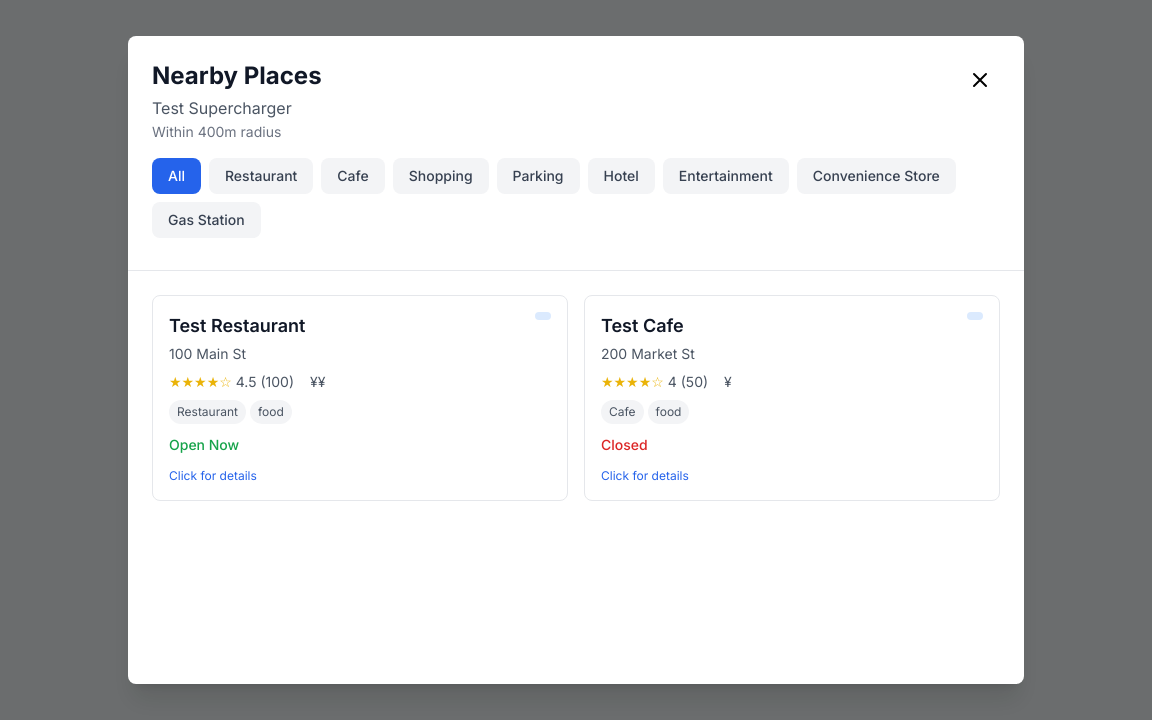
NearbyPlaces Component › should close place details modal
The width and height of the screenshot is (1152, 720).
Expected: the heading "Test Restaurant" is shown, [169,312,305,340]
// Click on a place
Click the text "Test Restaurant": (237, 326) [169,312,551,340]
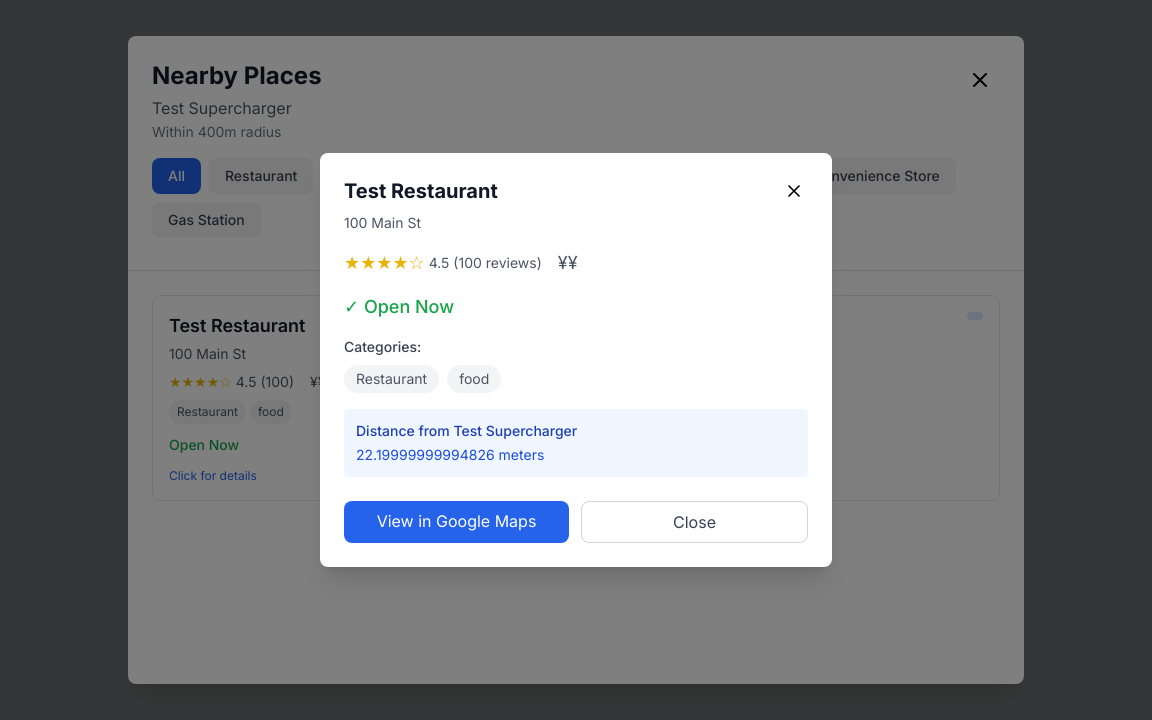
Now the text "4.5 (100 reviews)" is shown, box [429,253,542,273]
// Close details modal
Click the button "Close": (694, 522) [581,501,808,543]
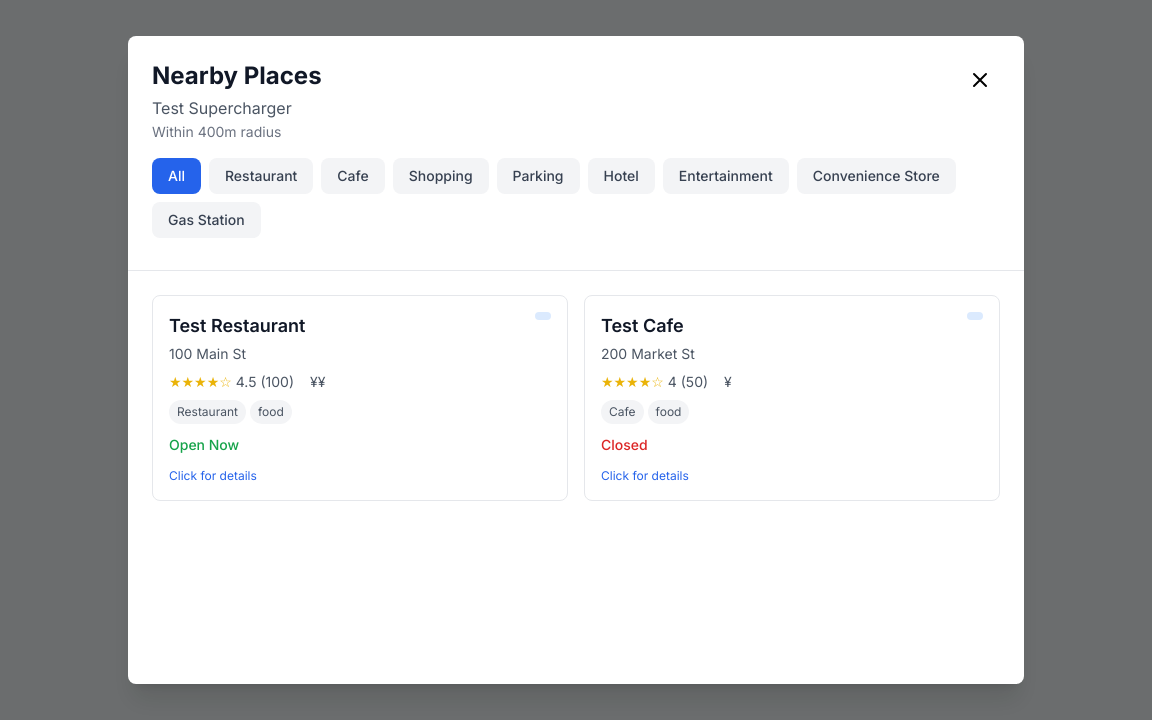
Now the text "4.5 (100 reviews)" is gone
